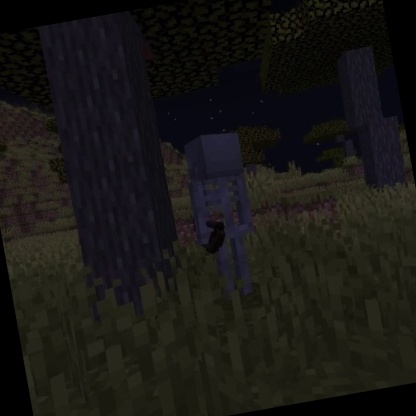skeleton: (173, 123, 273, 306)
